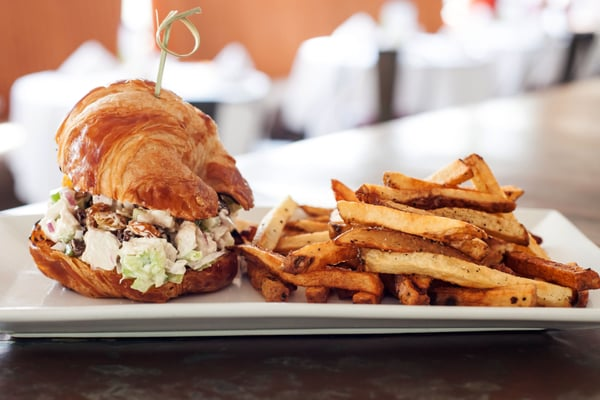soup: (26, 77, 256, 302), (380, 152, 524, 212)
